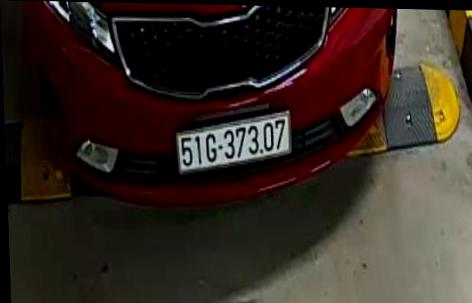License_Plate: (165, 106, 295, 177)
